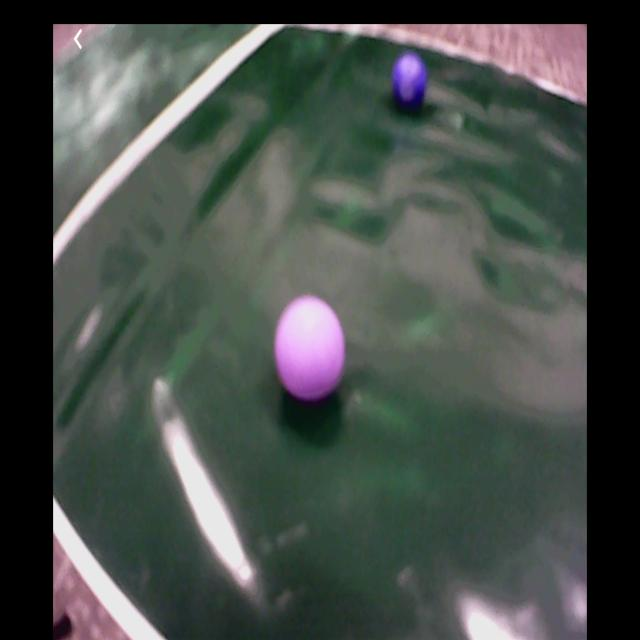ball: (276, 299, 348, 400), (394, 52, 428, 111)
